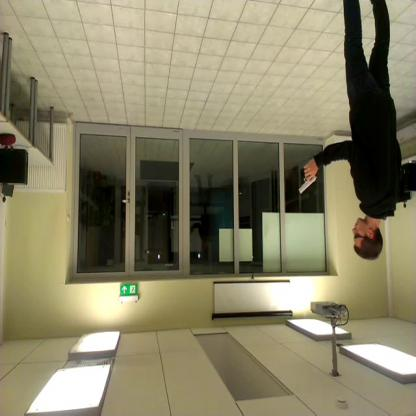Pistol: (289, 142, 320, 200)
